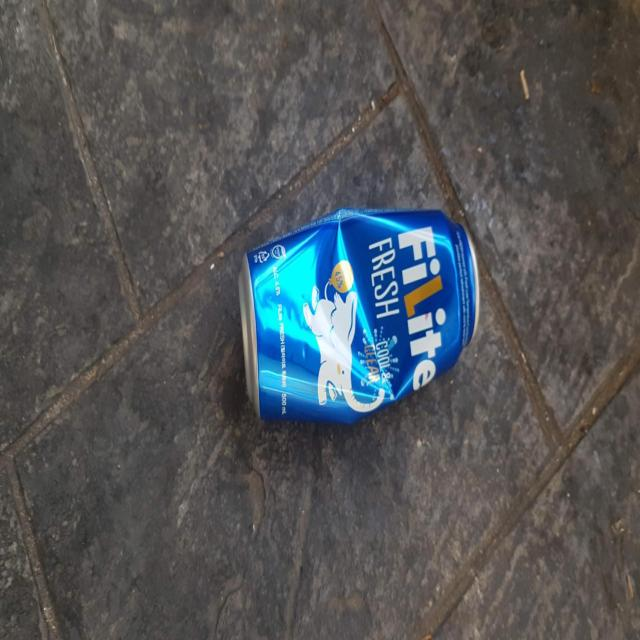can: (238, 208, 480, 422)
